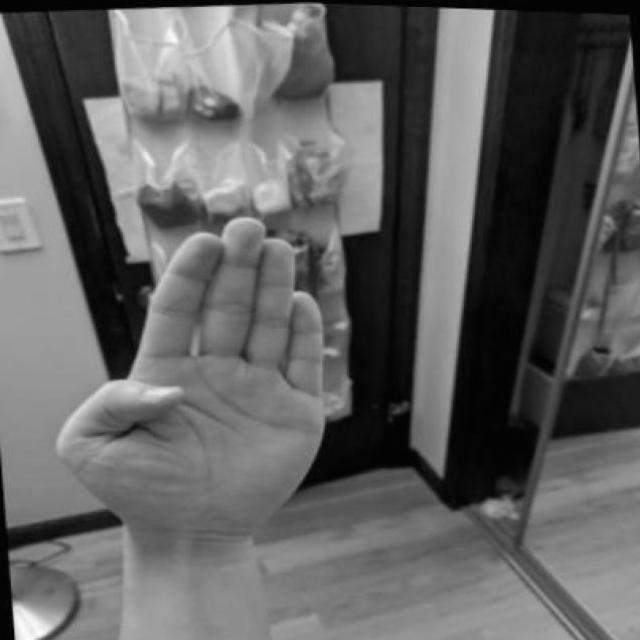B: (43, 217, 355, 564)
